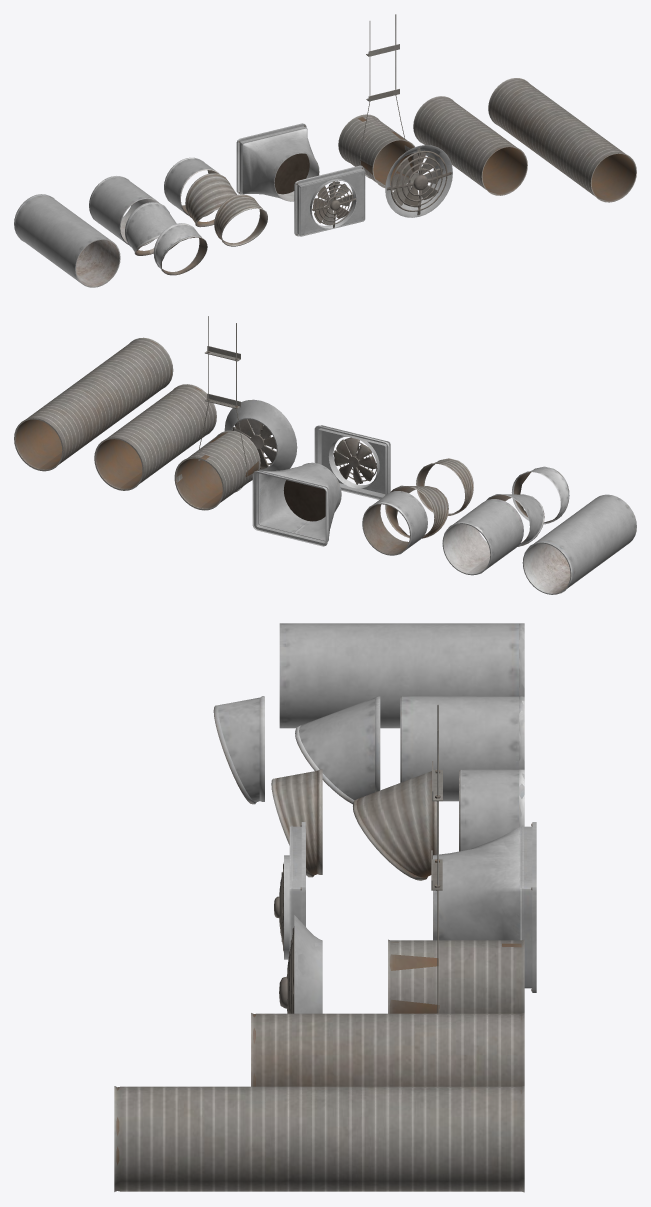
File: AirDuctKit.obj
3 renders of one model, top to bottom at view 1: azimuth 30°, elevation 25°; view 2: azimuth 150°, elevation 25°; view 3: azimuth 270°, elevation 25°, orthographic. The views are drawn at different scales.
Parts seen in each view (by area): view 1: Duct; view 2: Duct; view 3: Duct.
Part boxes in pixels (x1=…): Duct: x1=14, y1=14, x2=636, y2=287; Duct: x1=14, y1=316, x2=636, y2=594; Duct: x1=114, y1=623, x2=536, y2=1192.
Bounding box in the file's own units: 4.17 × 1.32 × 1.46.
Materials: 1 (1 with a texture image).
